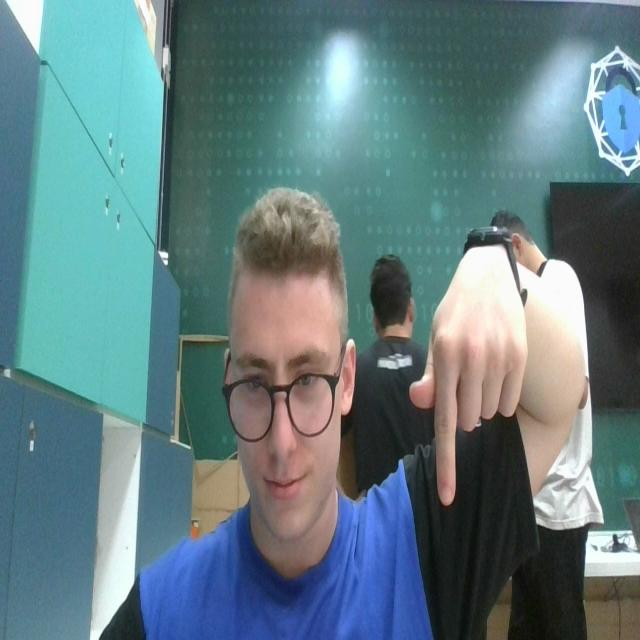Q: (408, 247, 528, 512)
